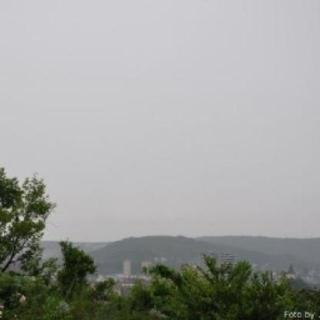Nimbostratus: (144, 52, 320, 230)
